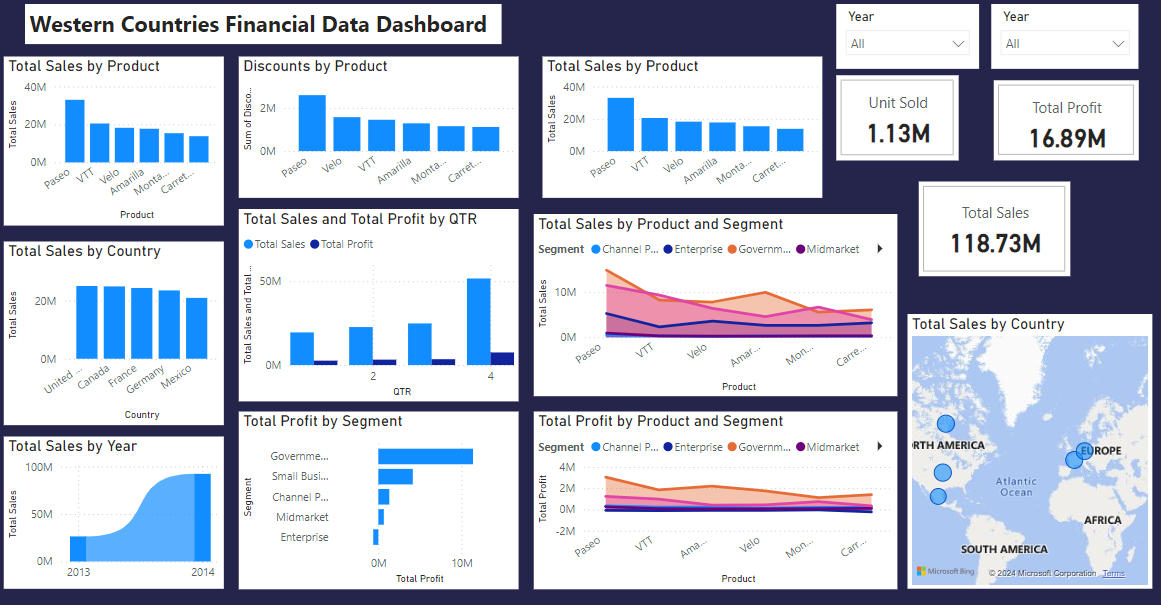

This screenshot's page, from the dashboard's own definition file:
{"tool":"powerbi","page":{"name":"Page 1","canvas":[1280,720],"ordinal":0},"visuals":[{"type":"columnChart","fields":{"Y":["financials.Total Sales"],"Category":["financials.Product"]},"box":[9.6,118,241.5,185.2],"z":0},{"type":"clusteredBarChart","fields":{"Category":["financials.Segment"],"Y":["financials.Total Profit"]},"box":[267.6,507.7,307.4,194.9],"z":1000},{"type":"ribbonChart","fields":{"Category":["financials.Year"],"Y":["financials.Total Sales"]},"box":[9.6,535.2,241.5,167.4],"z":2000},{"type":"columnChart","fields":{"Category":["financials.Country"],"Y":["financials.Total Sales"]},"box":[9.6,321.1,241.5,201.7],"z":3000},{"type":"clusteredColumnChart","fields":{"Y":["financials.Total Sales","financials.Total Profit"],"Category":["financials.QTR"]},"box":[267.6,285.4,307.4,211.3],"z":4000},{"type":"columnChart","title":"Discounts by Product","fields":{"Category":["financials.Product"],"Y":["Sum(financials.Discounts)"]},"box":[267.6,118,307.4,155.1],"z":5000},{"type":"columnChart","fields":{"Y":["financials.Total Sales"],"Category":["financials.Product"]},"box":[601,118,307.4,155.1],"z":6000},{"type":"areaChart","fields":{"Category":["financials.Product"],"Y":["financials.Total Sales"],"Series":["financials.Segment"]},"box":[591.4,290.9,399.3,200.3],"z":7000},{"type":"areaChart","fields":{"Category":["financials.Product"],"Y":["financials.Total Profit"],"Series":["financials.Segment"]},"box":[591.4,507.7,399.3,194.9],"z":8000},{"type":"map","fields":{"Category":["financials.Country"],"Size":["financials.Total Sales"]},"box":[1001.7,400.7,269,301.9],"z":9000},{"type":"cardVisual","fields":{"Data":["financials.Unit Sold"]},"box":[923.5,138.6,134.5,93.3],"z":10000},{"type":"cardVisual","fields":{"Data":["financials.Total Profit"]},"box":[1096.4,144.1,159.2,87.8],"z":11000},{"type":"cardVisual","fields":{"Data":["financials.Total Sales"]},"box":[1014.1,255.2,166,104.3],"z":12000},{"type":"slicer","fields":{"Values":["financials.Year"]},"box":[1093.7,60.4,161.9,71.4],"z":13000},{"type":"slicer","fields":{"Values":["financials.Year"]},"box":[923.5,60.4,156.4,71.4],"z":14000},{"type":"textbox","box":[32.9,60.4,522.8,43.9],"z":15000}]}

Visuals, with their boxes in screenshot pixels (x1, y1, x2, y2):
columnChart - financials.Total Sales x financials.Product: x1=9 y1=66 x2=224 y2=231
clusteredBarChart - financials.Segment x financials.Total Profit: x1=238 y1=413 x2=512 y2=586
ribbonChart - financials.Year x financials.Total Sales: x1=9 y1=437 x2=224 y2=586
columnChart - financials.Country x financials.Total Sales: x1=9 y1=247 x2=224 y2=426
clusteredColumnChart - financials.Total Sales x financials.Total Profit: x1=238 y1=215 x2=512 y2=403
"Discounts by Product" columnChart: x1=238 y1=66 x2=512 y2=204
columnChart - financials.Total Sales x financials.Product: x1=535 y1=66 x2=809 y2=204
areaChart - financials.Product x financials.Total Sales: x1=526 y1=220 x2=882 y2=398
areaChart - financials.Product x financials.Total Profit: x1=526 y1=413 x2=882 y2=586
map - financials.Country x financials.Total Sales: x1=892 y1=317 x2=1131 y2=586
cardVisual - financials.Unit Sold: x1=822 y1=84 x2=942 y2=167
cardVisual - financials.Total Profit: x1=976 y1=89 x2=1118 y2=167
cardVisual - financials.Total Sales: x1=903 y1=188 x2=1051 y2=281
slicer - financials.Year: x1=974 y1=14 x2=1118 y2=78
slicer - financials.Year: x1=822 y1=14 x2=961 y2=78
textbox: x1=29 y1=14 x2=495 y2=54
